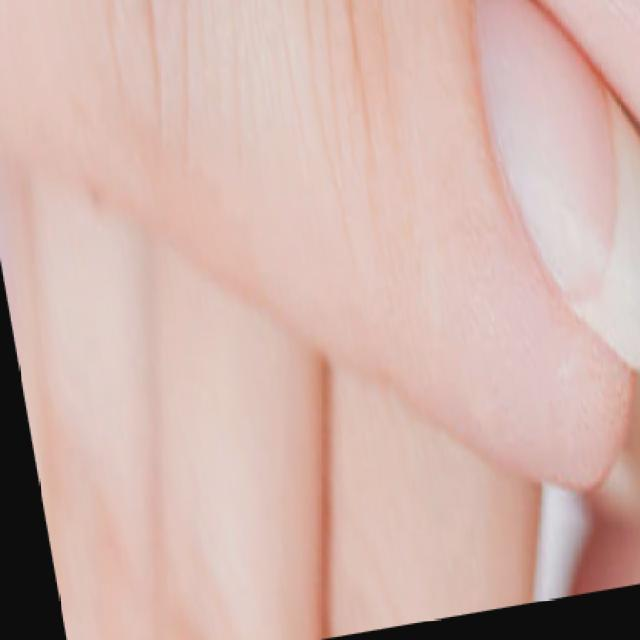Nail: (478, 0, 637, 360)
